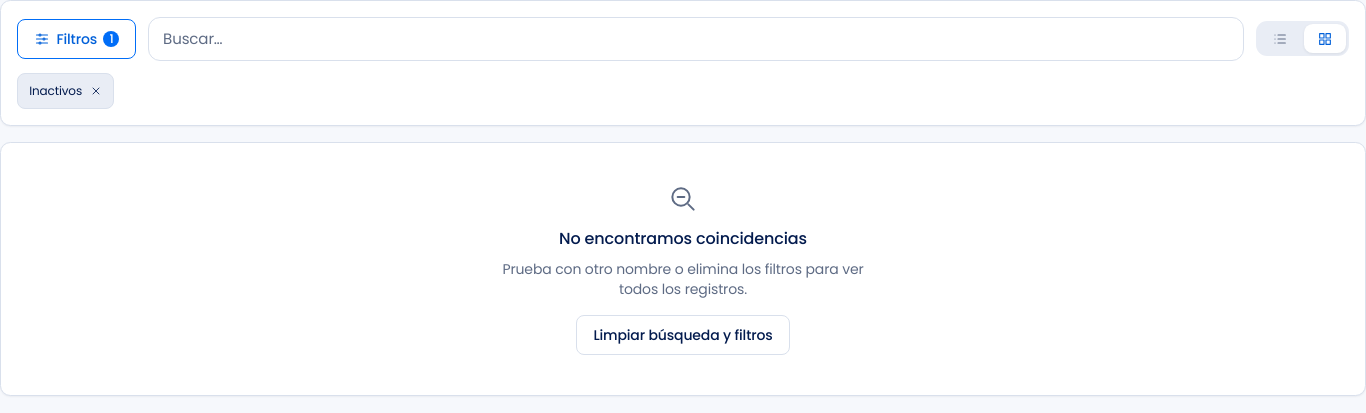
Test case: listados operativos › restablece filtros y búsqueda también en cuadrícula
Type "And" into the search field with placeholder "Buscar…" at (696, 39), box top-left (148, 17), bottom-right (1244, 61)
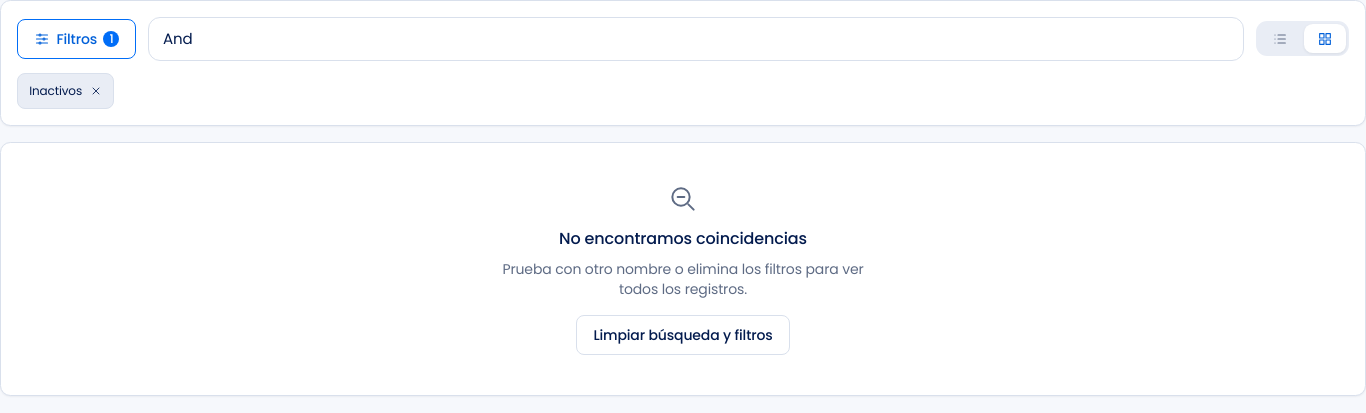
Click the button "Limpiar búsqueda y filtros" at (683, 335), box top-left (576, 315), bottom-right (790, 355)
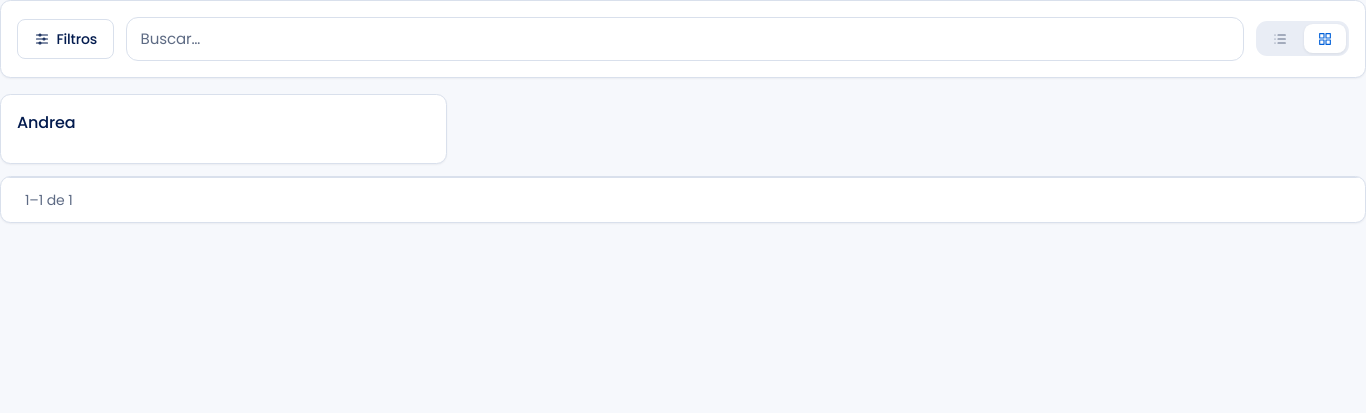
expect the text "Andrea" is shown: met, box top-left (17, 111), bottom-right (76, 134)
expect the search field with placeholder "Buscar…" is empty: met, box top-left (126, 17), bottom-right (1244, 61)
